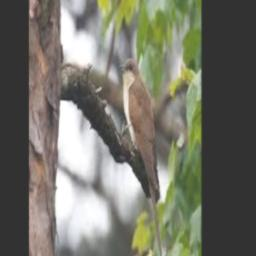Cuckoo: (120, 59, 162, 256)
